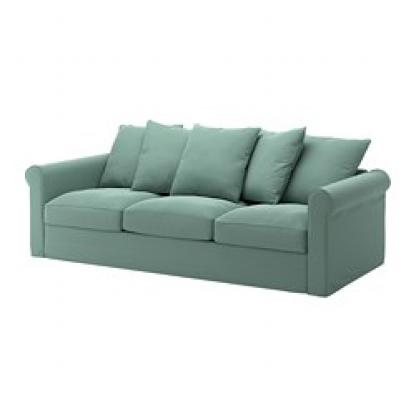Sofa: (16, 118, 392, 315)
